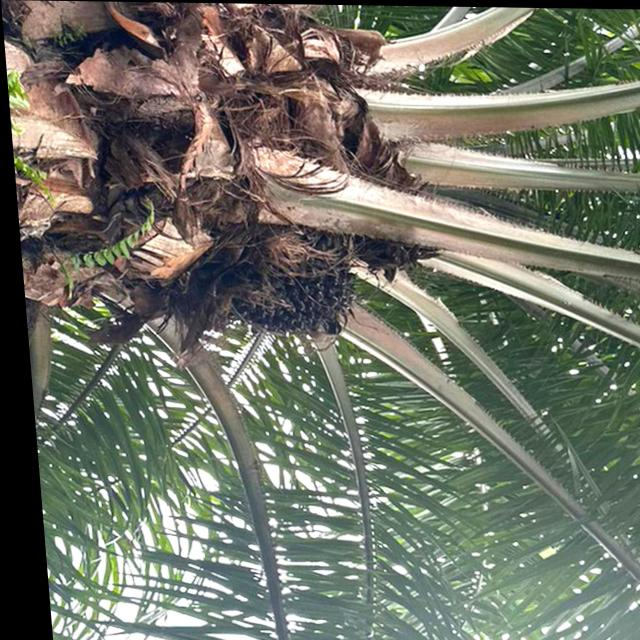unripe: (217, 227, 360, 341)
